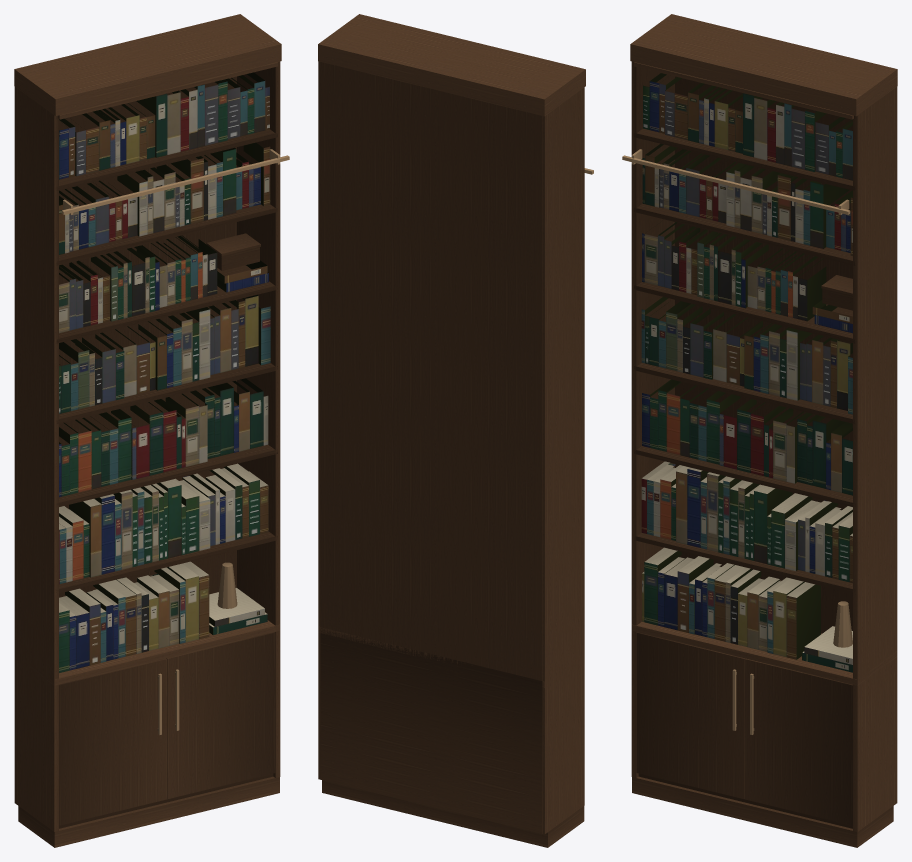
File: library_bookcase_s.gltf
The picture shows the model from 3 angles, left to right: view 1: azimuth 30°, elevation 25°; view 2: azimuth 150°, elevation 25°; view 3: azimuth 330°, elevation 25°; orthographic projection.
Visible parts, largest first — view 1: LibraryBookcaseS_Carcass, LibraryBookcaseS_Books, LibraryBookcaseS_Bronze; view 2: LibraryBookcaseS_Carcass; view 3: LibraryBookcaseS_Carcass, LibraryBookcaseS_Books, LibraryBookcaseS_Bronze.
Boxes of the visible parts, <box> form: LibraryBookcaseS_Carcass: <box>14,14,281,847</box>; LibraryBookcaseS_Books: <box>59,72,270,672</box>; LibraryBookcaseS_Bronze: <box>61,149,289,734</box>; LibraryBookcaseS_Carcass: <box>318,14,585,847</box>; LibraryBookcaseS_Carcass: <box>630,14,897,847</box>; LibraryBookcaseS_Books: <box>641,73,852,672</box>; LibraryBookcaseS_Bronze: <box>622,149,852,734</box>.
Bounding box in the file's own units: 1.18 × 3.74 × 0.445.
3 materials, 2 textured.
